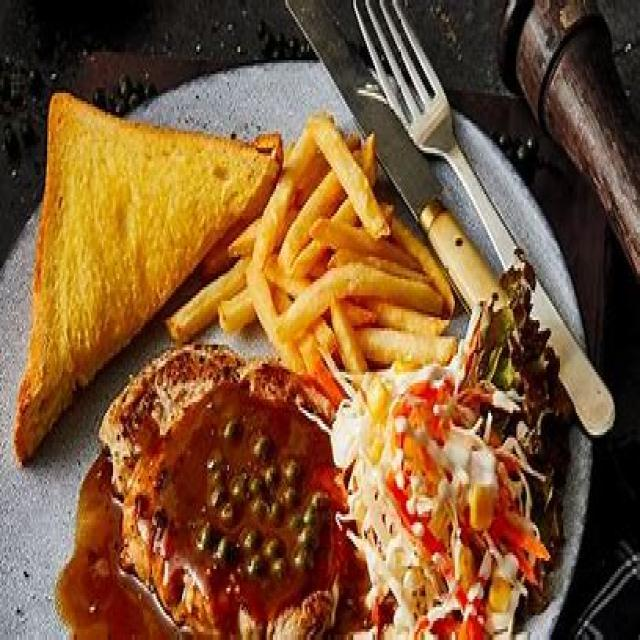banh mi sandwish: (9, 95, 285, 443)
cac loai rau cu: (338, 245, 566, 637), (208, 418, 333, 567)
khoai tay chien: (162, 104, 460, 374)
thit heo: (101, 329, 350, 639)
thit lon bistek: (6, 82, 584, 640)
